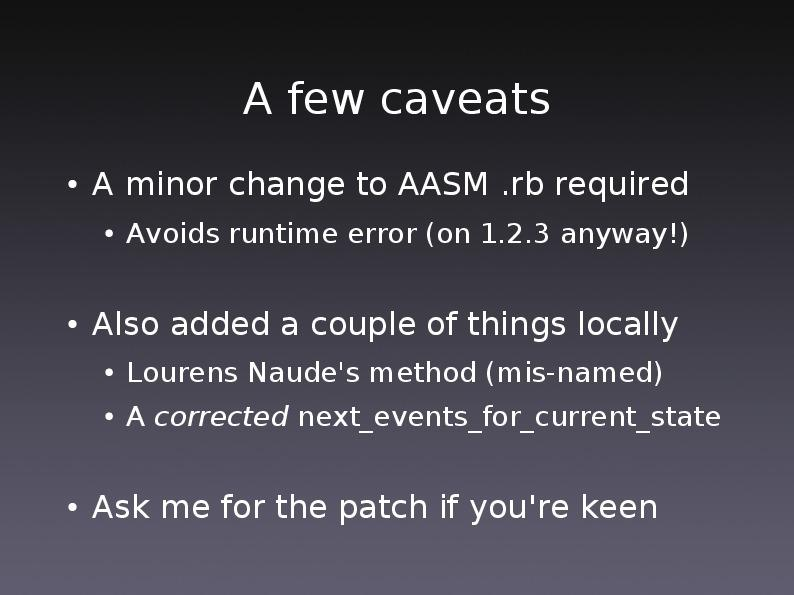paragraph: (63, 162, 741, 553)
title: (232, 60, 558, 129)
